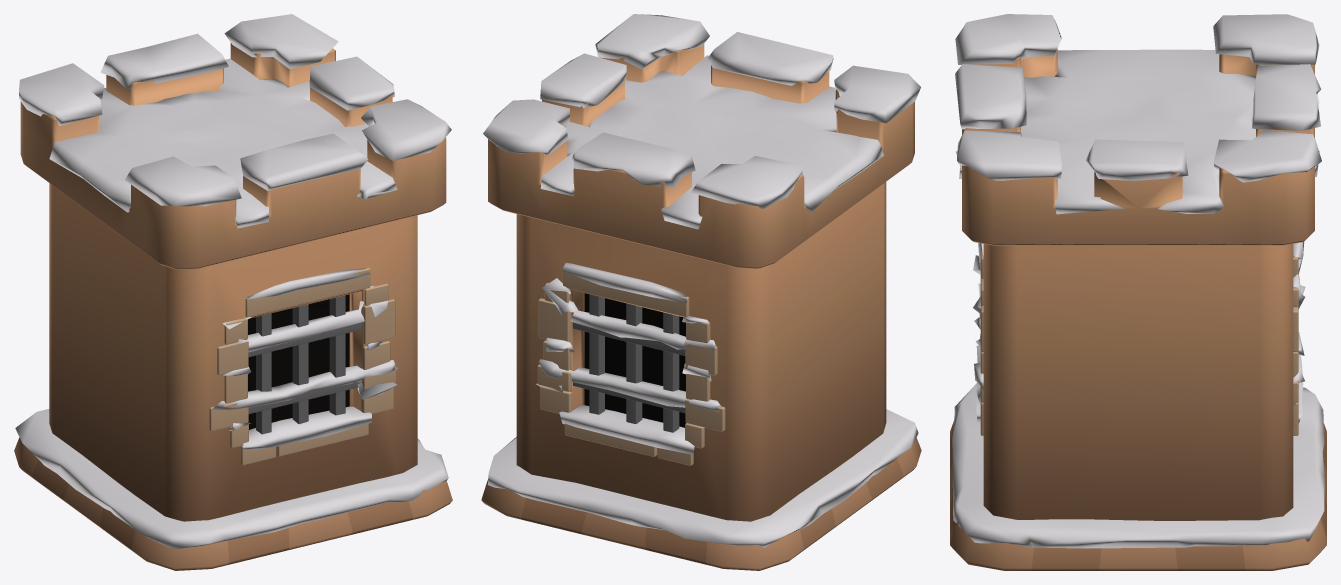
Rendered from CheckpointSnowy_2.fbx.
3 renders of one model, left to right at view 1: azimuth 30°, elevation 25°; view 2: azimuth 150°, elevation 25°; view 3: azimuth 270°, elevation 25°, orthographic. The views are drawn at different scales.
Parts seen in each view (by area): view 1: CheckpointSnowy_2; view 2: CheckpointSnowy_2; view 3: CheckpointSnowy_2.
Part boxes in pixels (<box>): CheckpointSnowy_2: <box>14,14,452,570</box>; CheckpointSnowy_2: <box>481,14,921,570</box>; CheckpointSnowy_2: <box>950,14,1326,570</box>.
Size of the model in its own units: 281 by 333 by 281.
